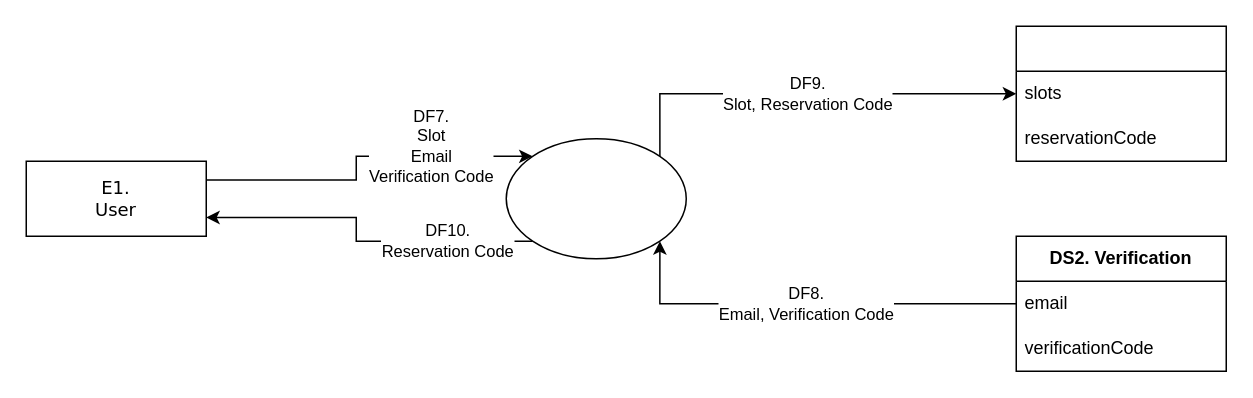
This 1253x398 diagram has some shape labels left out. The shapes that lost their labels are listed below. From the top down, each one's box as (x1, y1, x2, y2) in pixels, then its label:
(1015, 25, 1226, 161): DS1. Reservations
(505, 137, 686, 259): P3. Reservation
